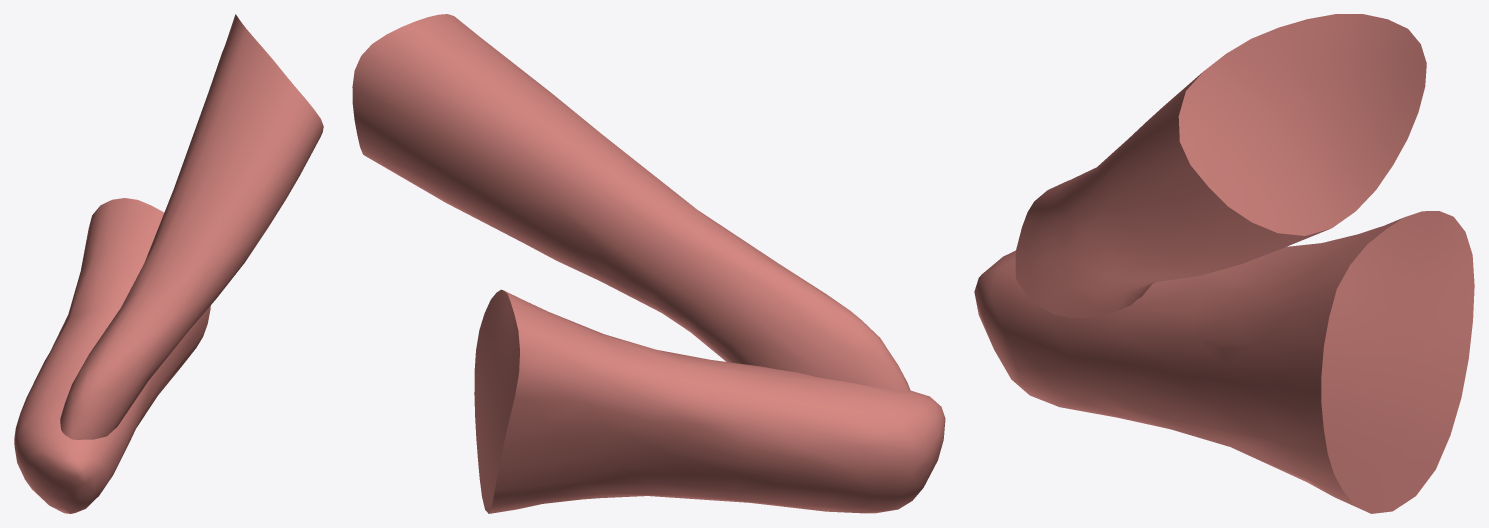
File: fma39315-f_mm3934.glb
The picture shows the model from 3 angles, left to right: view 1: azimuth 30°, elevation 25°; view 2: azimuth 150°, elevation 25°; view 3: azimuth 270°, elevation 25°; orthographic projection. The views are drawn at different scales.
Visible parts, largest first — view 1: FMA39315-F_MM3934; view 2: FMA39315-F_MM3934; view 3: FMA39315-F_MM3934.
Part boxes in pixels (x1,y1,x2,y2): FMA39315-F_MM3934: (14,14,323,513); FMA39315-F_MM3934: (352,14,945,513); FMA39315-F_MM3934: (974,14,1474,513).
Size of the model in its own units: 0.0113 by 0.0111 by 0.00847.
